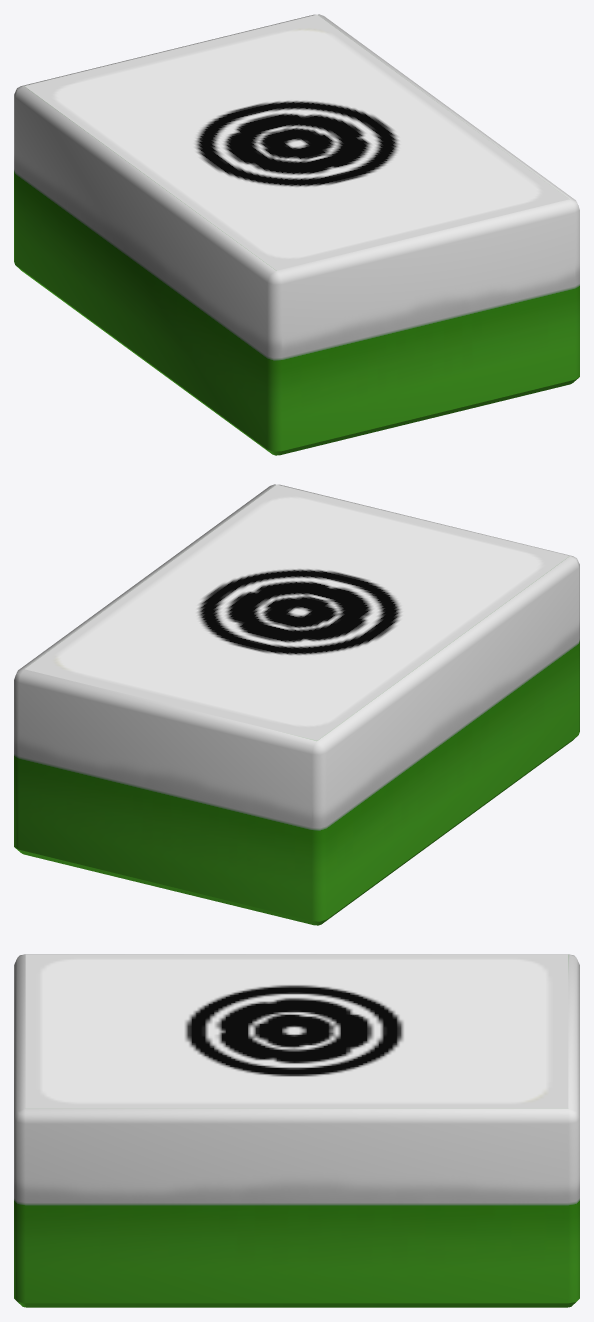
The model's file is mahjong_tile_19.FBX.
The picture shows the model from 3 angles, top to bottom: view 1: azimuth 30°, elevation 25°; view 2: azimuth 150°, elevation 25°; view 3: azimuth 270°, elevation 25°; orthographic projection. The views are drawn at different scales.
Visible parts, largest first — view 1: mahjong_tile_19; view 2: mahjong_tile_19; view 3: mahjong_tile_19.
Boxes of the visible parts, left/top/right/bottom form: mahjong_tile_19: left=14, top=14, right=579, bottom=455; mahjong_tile_19: left=14, top=484, right=579, bottom=925; mahjong_tile_19: left=14, top=954, right=579, bottom=1307.
Size of the model in its own units: 130 by 73.07 by 190.
